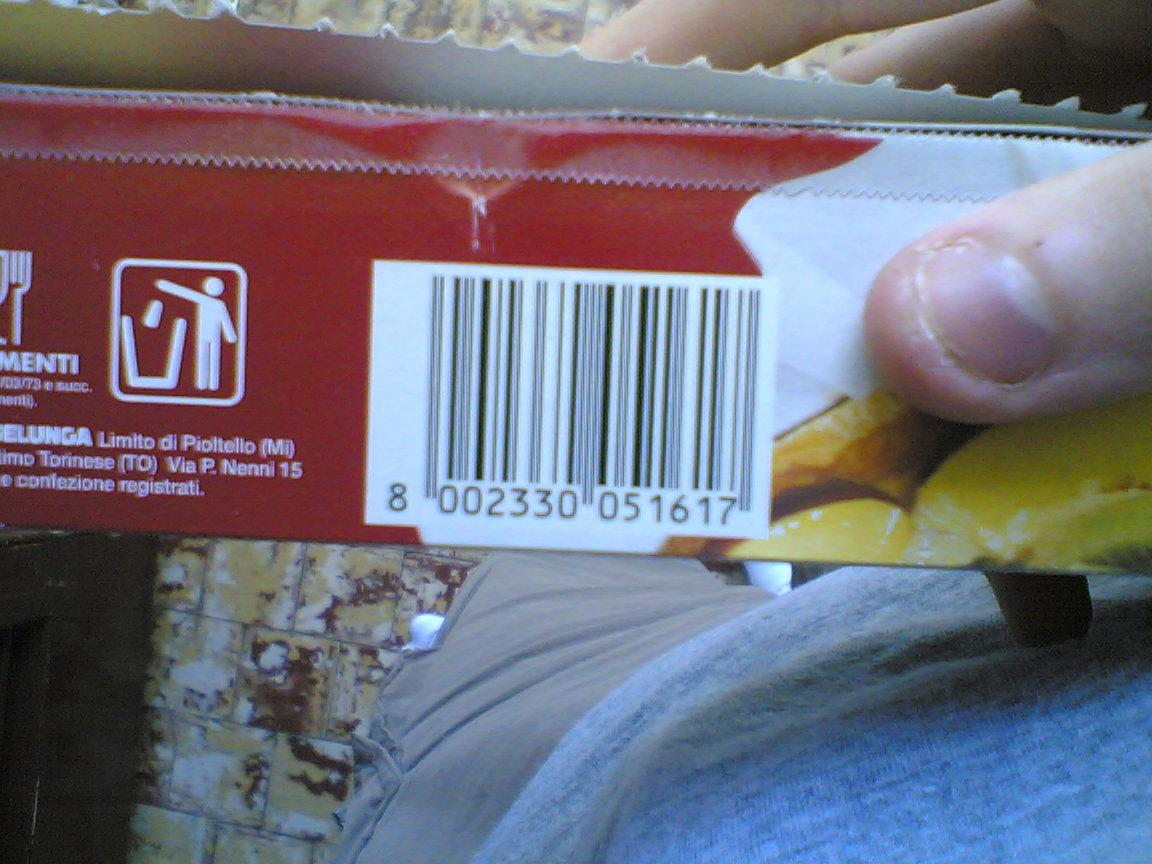Barcode: (363, 256, 778, 543)
